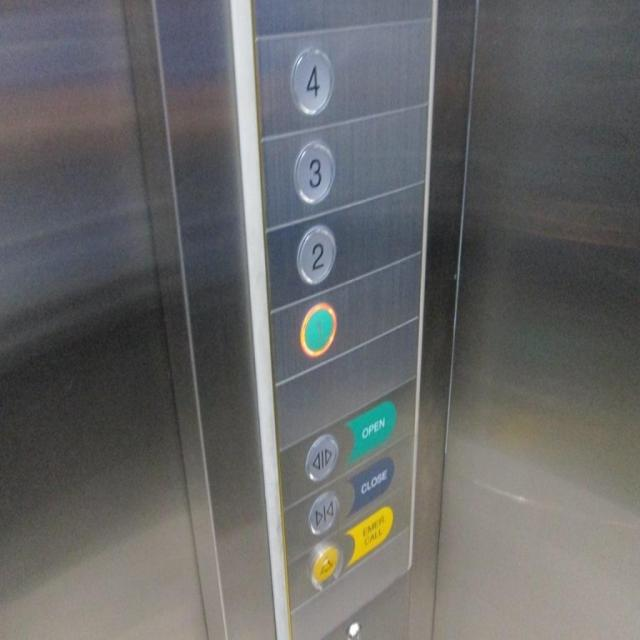1: (298, 301, 338, 360)
2: (294, 224, 336, 286)
3: (292, 137, 336, 205)
4: (288, 45, 336, 117)
alarm: (308, 541, 342, 590)
close: (307, 488, 339, 535)
open: (304, 432, 339, 482)
